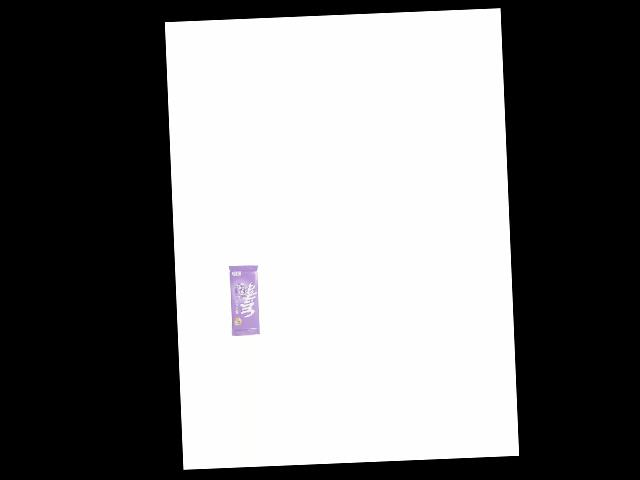chocolate: (225, 260, 261, 336)
